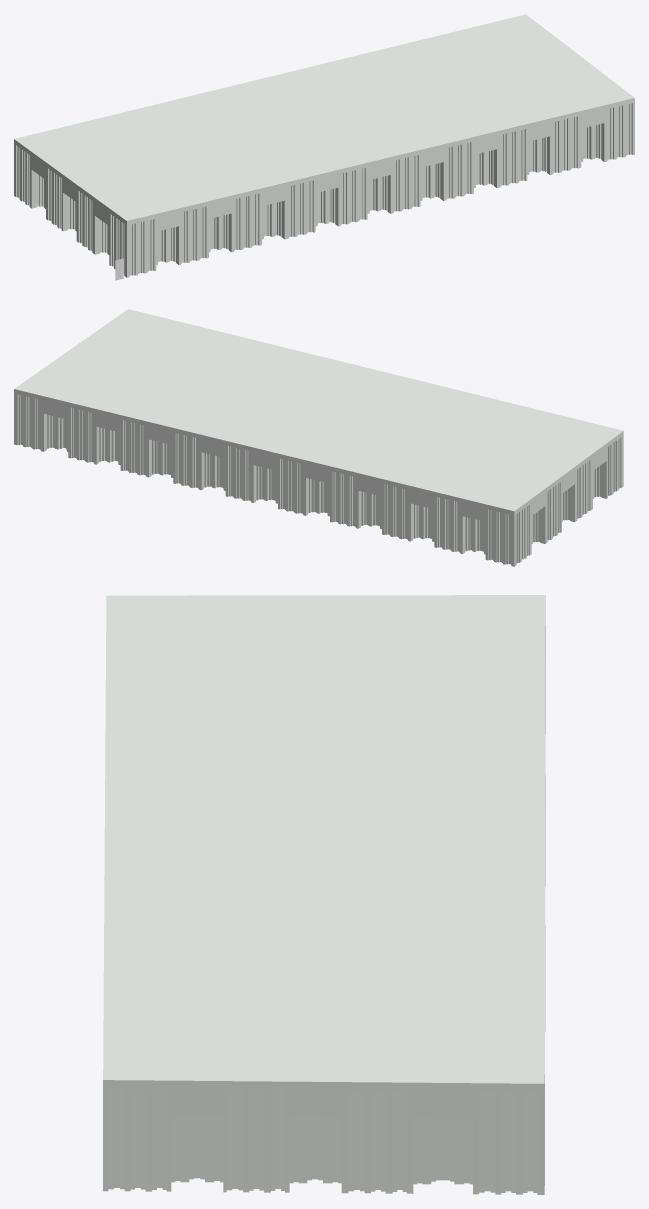
3 views of the same model, one above another, from view 1: azimuth 30°, elevation 25°; view 2: azimuth 150°, elevation 25°; view 3: azimuth 270°, elevation 25° (orthographic). The views are drawn at different scales.
Visible parts, largest first — view 1: Mesh1 Model; view 2: Mesh1 Model; view 3: Mesh1 Model.
Boxes of the visible parts, x1=… form: Mesh1 Model: x1=14, y1=14, x2=634, y2=277; Mesh1 Model: x1=14, y1=309, x2=623, y2=566; Mesh1 Model: x1=103, y1=595, x2=545, y2=1194.
Size of the model in its own units: 43.38 by 4.5 by 16.26.
2 materials, 2 textured.
